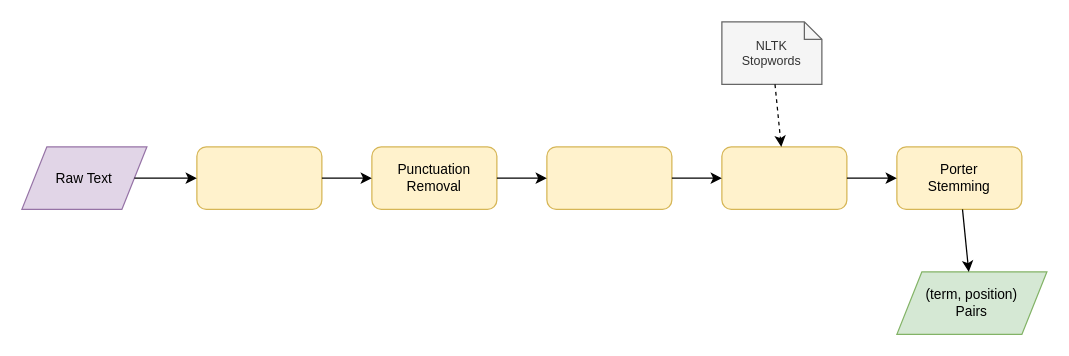
This 1069x356 diagram has some shape labels left out. The shapes that lost their labels are listed below. From the top down, each one's box as (x1, y1, x2, y2) in pixels, then its label:
(196, 146, 322, 209): Lowercasing
(546, 146, 672, 209): Tokenization (Whitespace)
(721, 146, 847, 209): Stopword Removal
